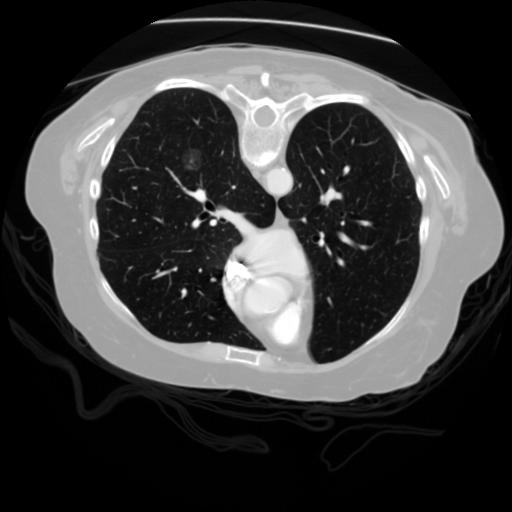nodule: (177, 147, 206, 176)
